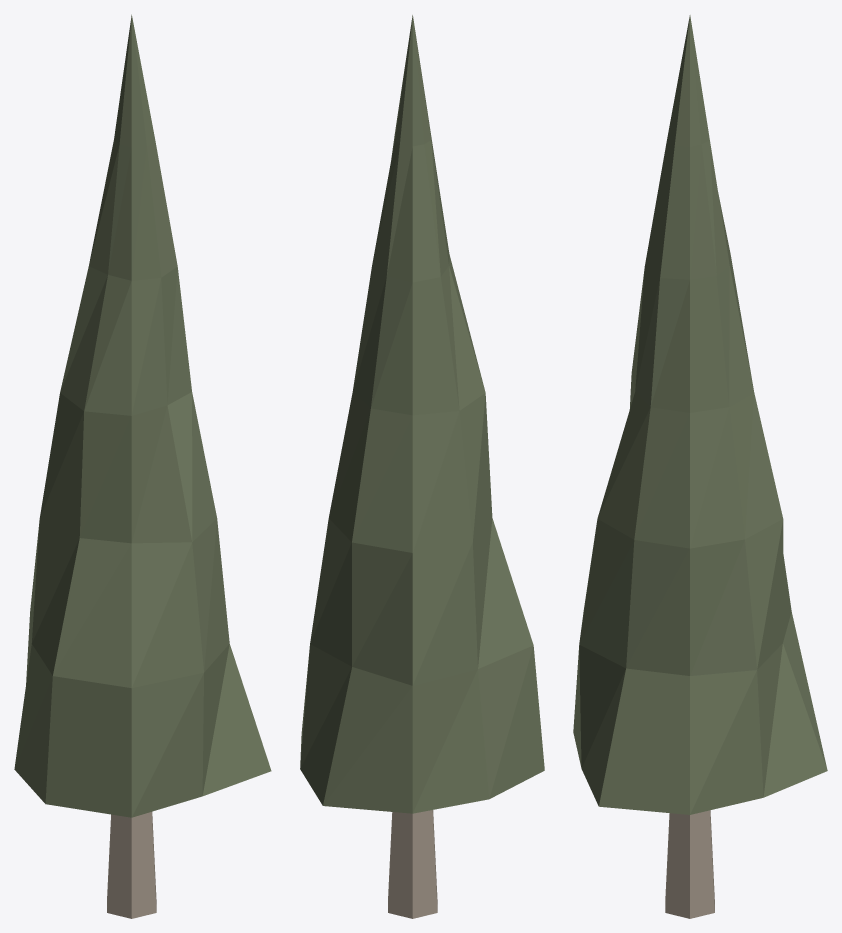
Rendered from cypress.gltf.
3 renders of one model, left to right at view 1: azimuth 30°, elevation 25°; view 2: azimuth 150°, elevation 25°; view 3: azimuth 270°, elevation 25°, orthographic.
Parts seen in each view (by area): view 1: cypress; view 2: cypress; view 3: cypress.
Part boxes in pixels (x1=…): cypress: x1=14, y1=14, x2=271, y2=918; cypress: x1=300, y1=15, x2=544, y2=918; cypress: x1=573, y1=15, x2=827, y2=918.
Bounding box in the file's own units: 1.42 × 5.5 × 1.42.
